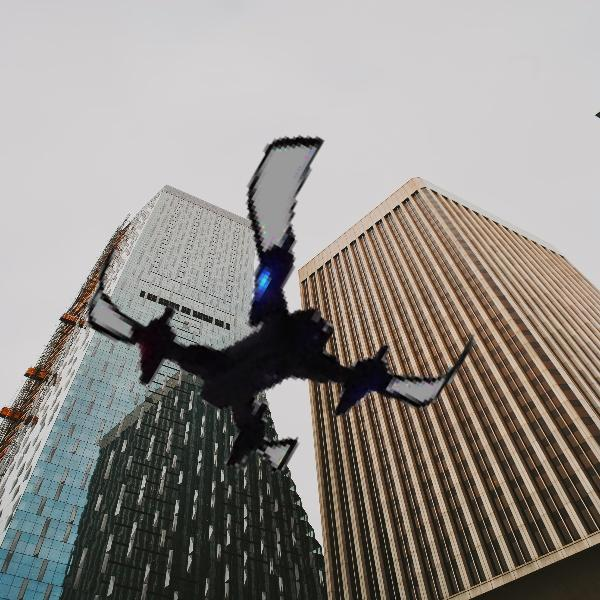drone: (103, 109, 489, 495)
